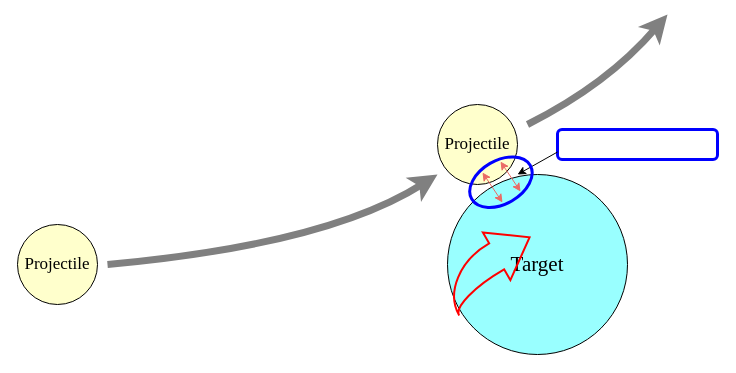
The diagram is 736 pixels wide and 373 high, and some of its shapes have lost their labels. The shapes that lost their labels are listed below. From the top down, each one's centre as x and y in pixels, then its label:
At (637,144): "Nucleon Transfer Reaction".
At (487,264): "SPIN".
